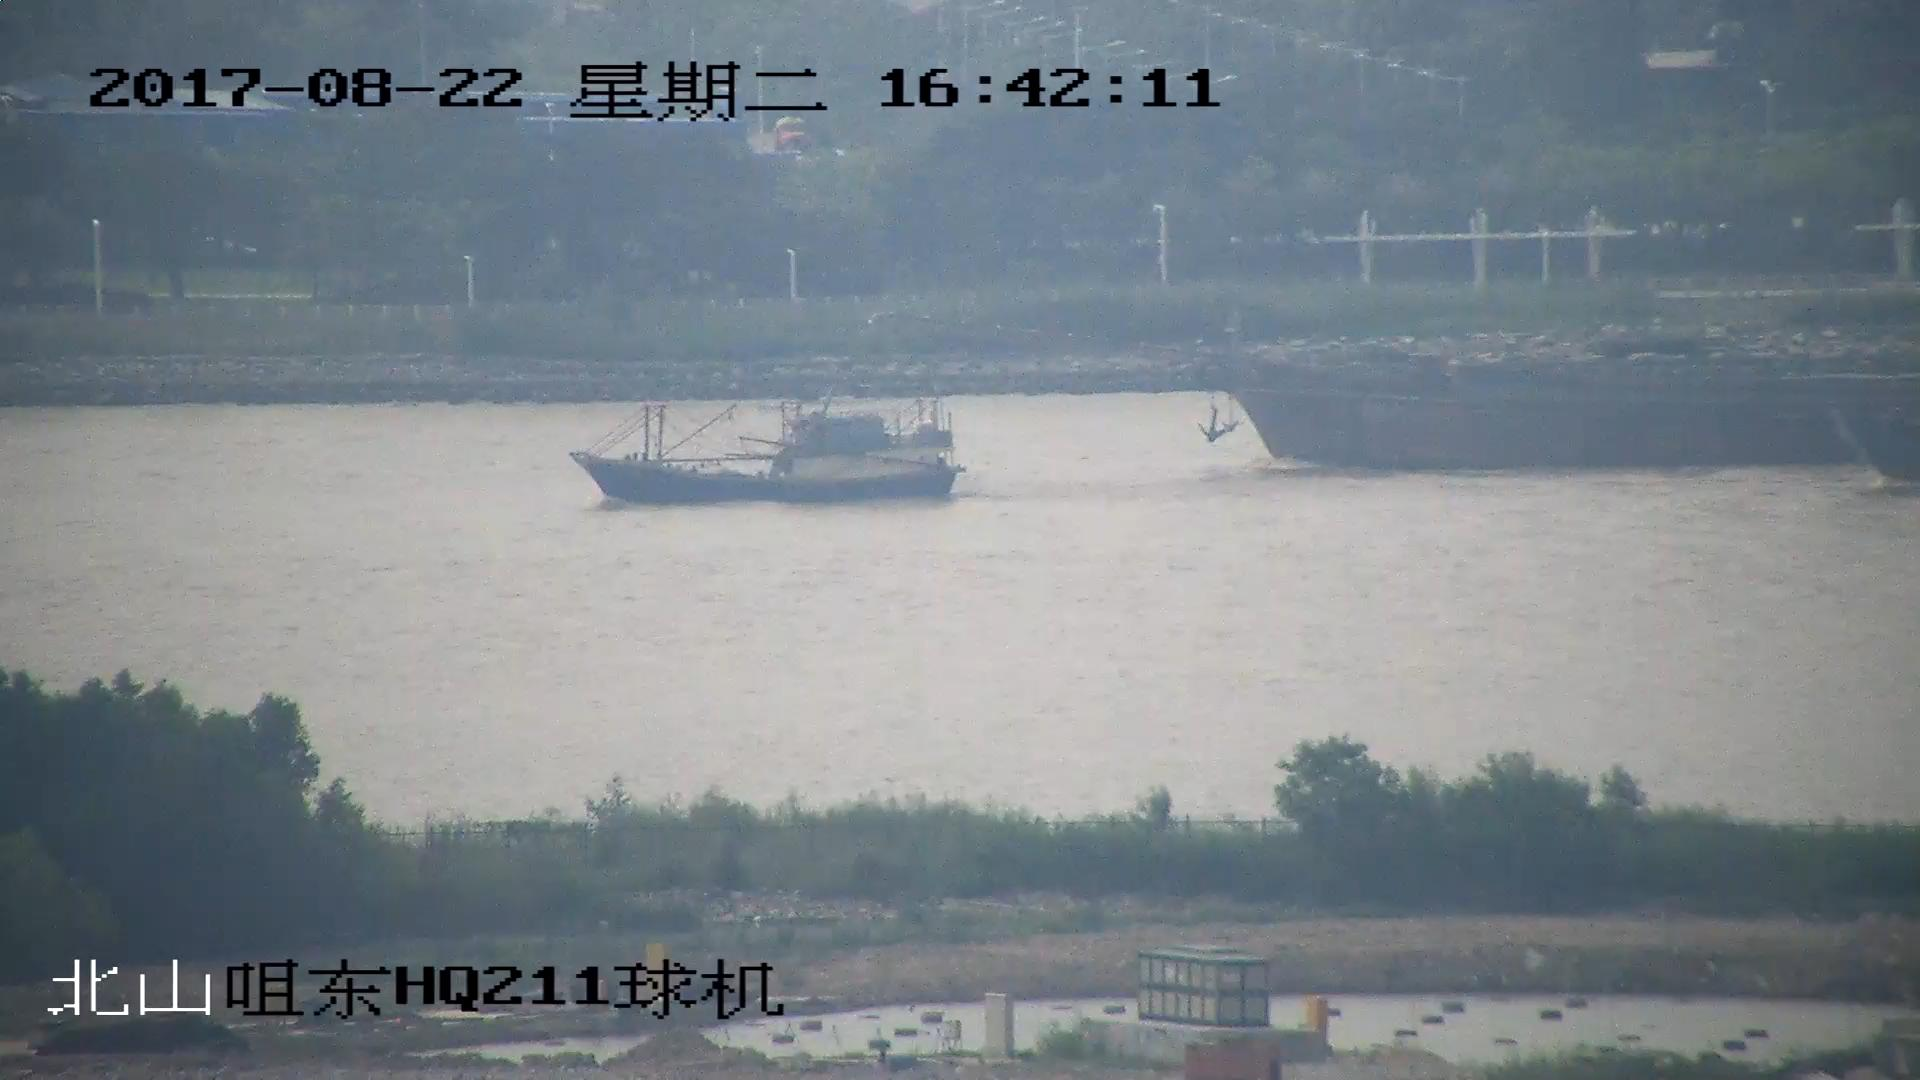bulk cargo carrier: (867, 314, 1920, 473)
fishing boat: (567, 391, 965, 508)
